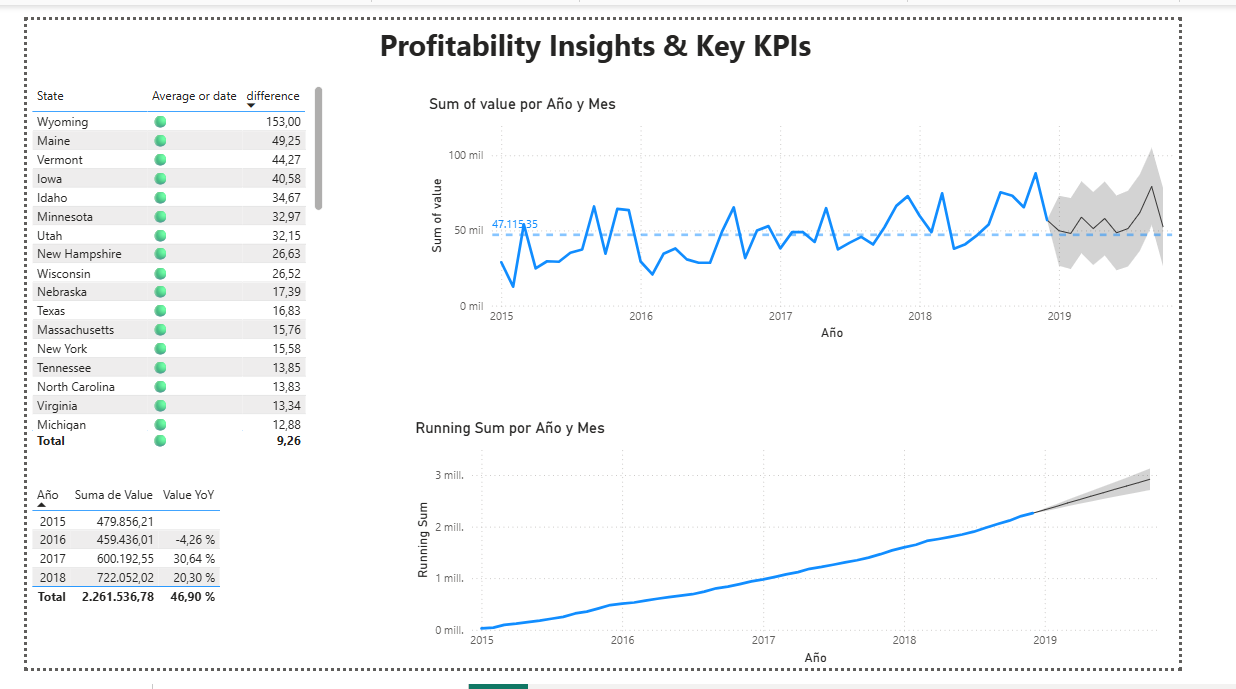

The page's visual inventory and layout, read from the dashboard file:
{"tool":"powerbi","page":{"name":"Profitability Insights & Key KPIs","canvas":[1280,720],"ordinal":1},"visuals":[{"type":"tableEx","fields":{"Values":["Sales_table.State","Medidas.diff","Medidas.difference"]},"box":[0,68.3,333.3,413.3],"z":0},{"type":"tableEx","fields":{"Values":["CalendarTable.Date.Variación.Jerarquía de fechas.Año","Sum(Sales_table.Value)","Medidas.Value YoY"]},"box":[0,511.7,268.8,186.2],"z":1000},{"type":"lineChart","fields":{"Category":["CalendarTable.Date.Variación.Jerarquía de fechas.Año","CalendarTable.Date.Variación.Jerarquía de fechas.Mes","CalendarTable.Date.Variación.Jerarquía de fechas.Día"],"Y":["Medidas.Running Sum"]},"box":[425.9,443.7,838.8,276.9],"z":2000},{"type":"lineChart","fields":{"Category":["CalendarTable.Date.Variación.Jerarquía de fechas.Año","CalendarTable.Date.Variación.Jerarquía de fechas.Mes","CalendarTable.Date.Variación.Jerarquía de fechas.Día"],"Y":["Medidas.Sum  of value"]},"box":[441.7,83.3,838.3,276.7],"z":3000},{"type":"textbox","box":[386.7,0,505,53.3],"z":3001}]}

Visuals, with their boxes in screenshot pixels (x1, y1, x2, y2), scaled from the page's 1280x720 canvas onto the 1236x689 screenshot:
tableEx - Sales_table.State x Medidas.diff: {"left": 0, "top": 65, "right": 322, "bottom": 461}
tableEx - CalendarTable.Date.Variación.Jerarquía de fechas.Año x Sum(Sales_table.Value): {"left": 0, "top": 490, "right": 260, "bottom": 668}
lineChart - CalendarTable.Date.Variación.Jerarquía de fechas.Año x CalendarTable.Date.Variación.Jerarquía de fechas.Mes: {"left": 411, "top": 425, "right": 1221, "bottom": 688}
lineChart - CalendarTable.Date.Variación.Jerarquía de fechas.Año x CalendarTable.Date.Variación.Jerarquía de fechas.Mes: {"left": 427, "top": 80, "right": 1235, "bottom": 344}
textbox: {"left": 373, "top": 0, "right": 861, "bottom": 51}
